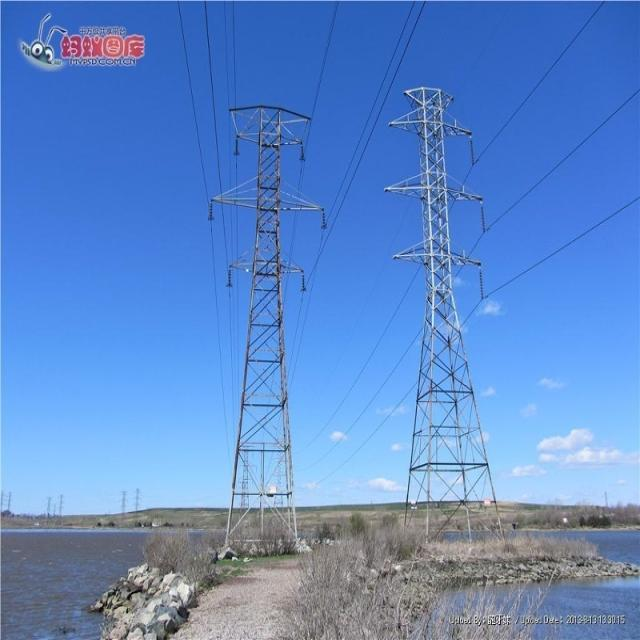non-critical vegetation: (385, 77, 509, 576), (203, 88, 322, 557)
